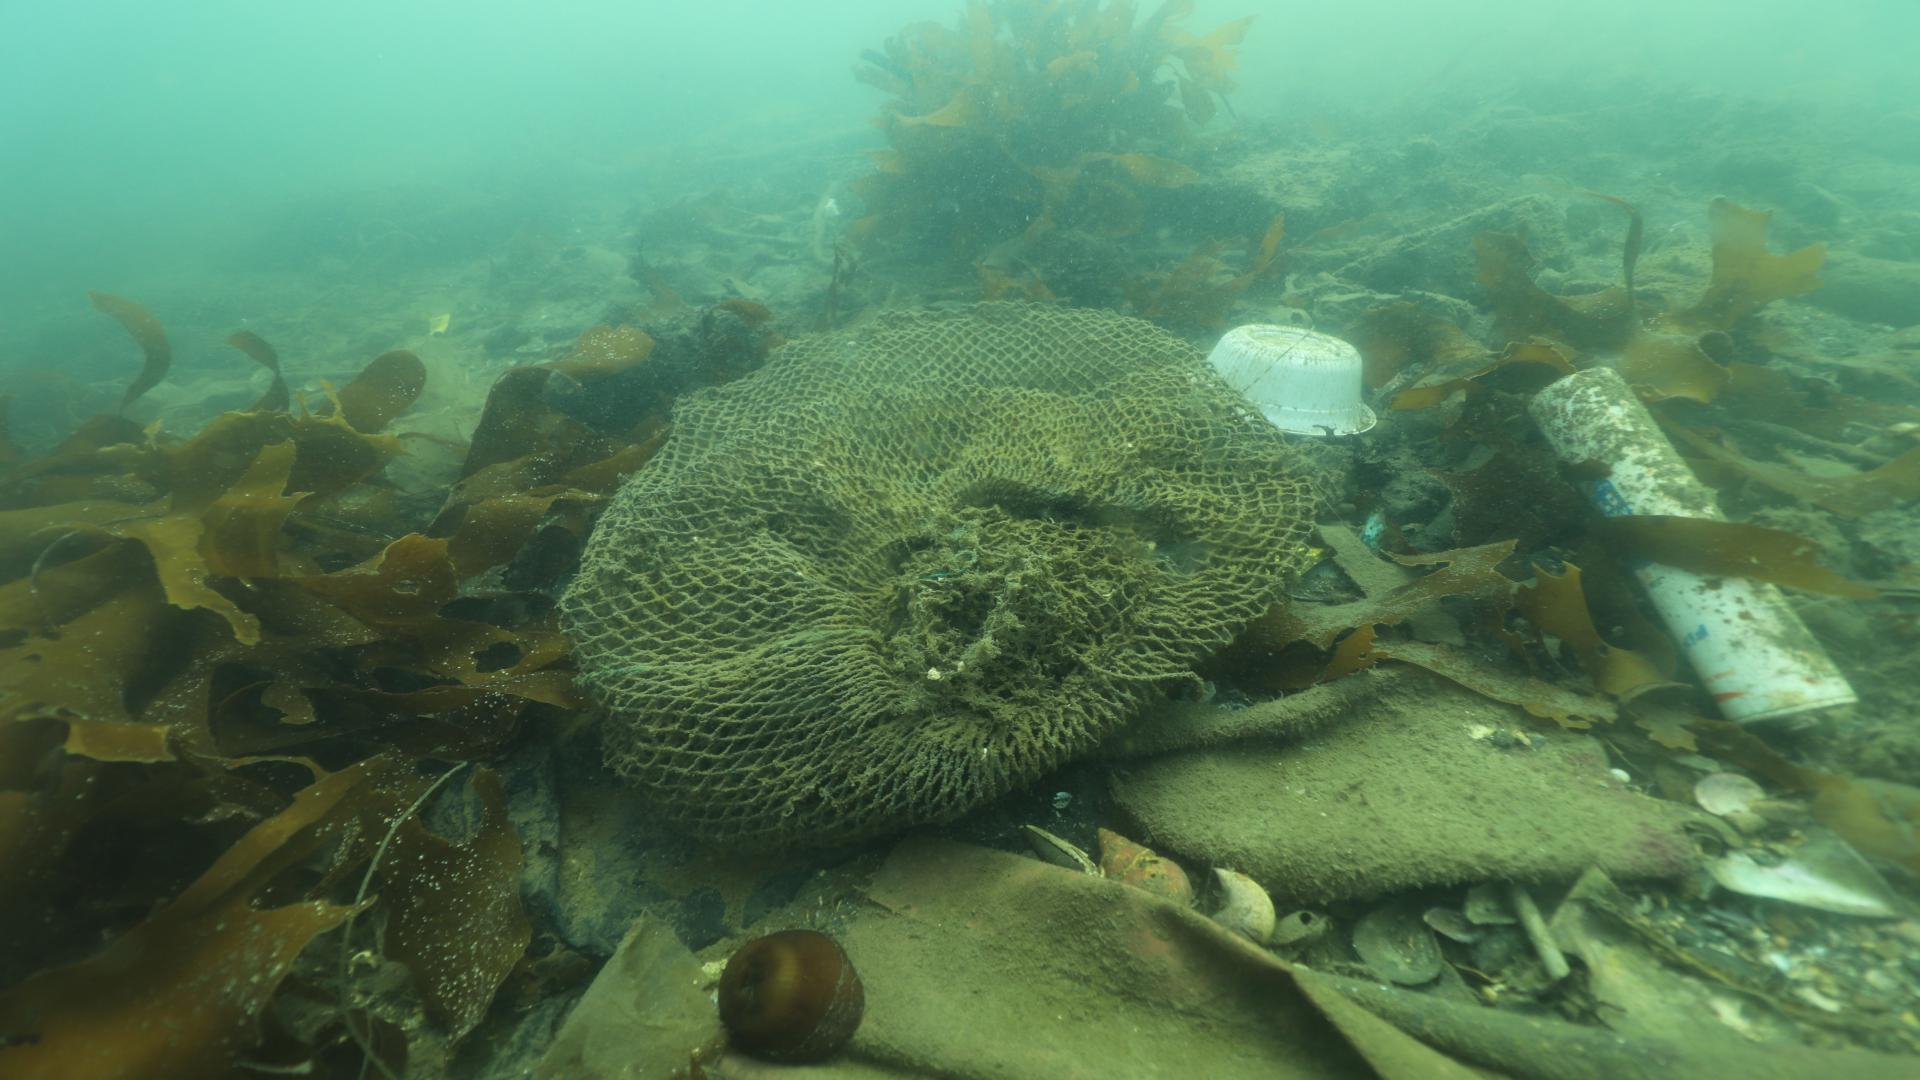fish net: (556, 301, 1321, 851)
